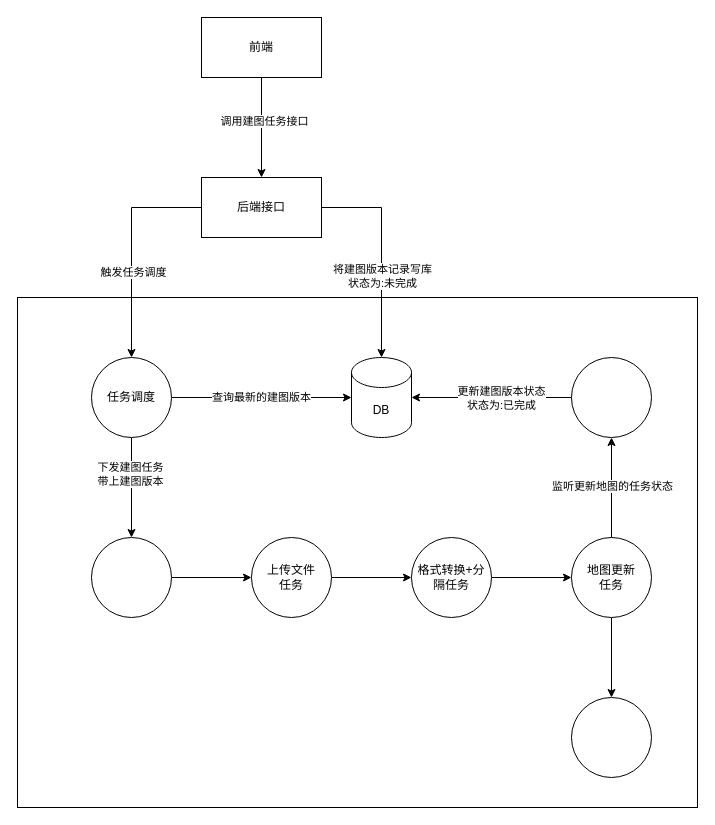
Some shapes in this 715 by 825 pixel diagram are drawn without their labels. The shapes that lost their labels are listed below. From the top down, each one's centre as x and y in pixels, then its label:
pixel 611 397: 地图更新任务监听
pixel 131 577: 建图任务
pixel 611 737: 自动 着色任务下发
